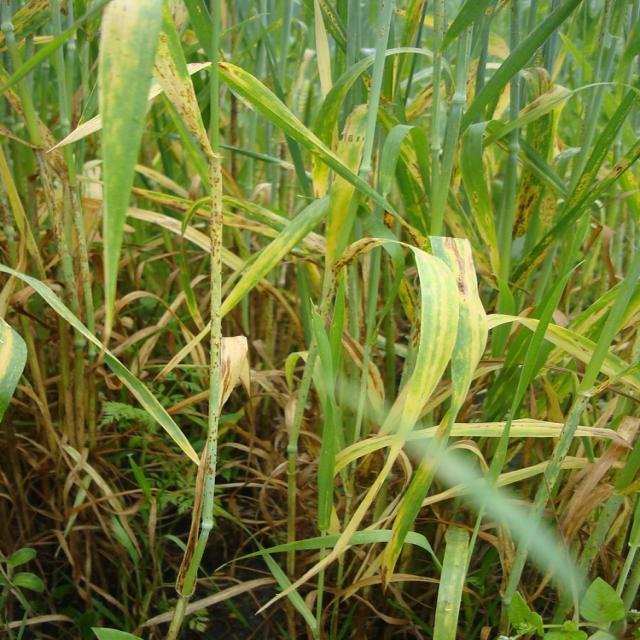wheat-septoria: (379, 237, 489, 443), (95, 0, 166, 264), (157, 18, 212, 165)
